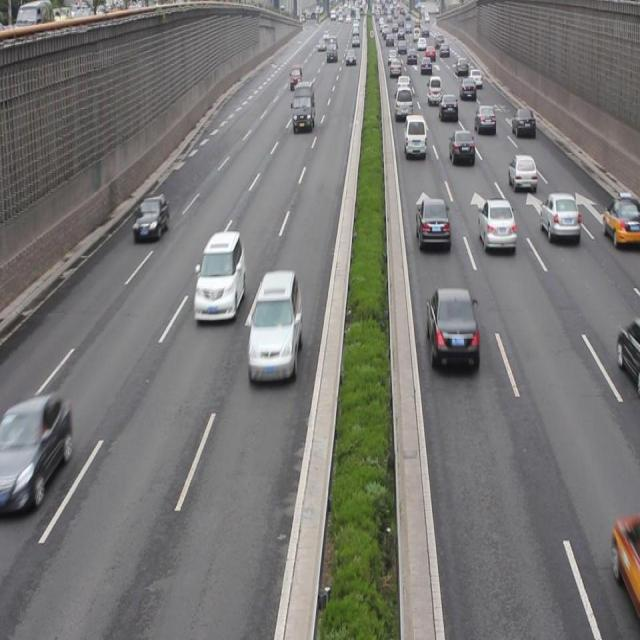car: (0, 398, 70, 515), (249, 270, 299, 384), (424, 285, 480, 376), (193, 230, 246, 326), (476, 200, 516, 254), (600, 192, 640, 246), (539, 193, 579, 244), (416, 197, 450, 252), (132, 193, 170, 240), (507, 154, 534, 190), (404, 116, 425, 158), (448, 130, 474, 158), (511, 110, 533, 136), (474, 106, 494, 132)
